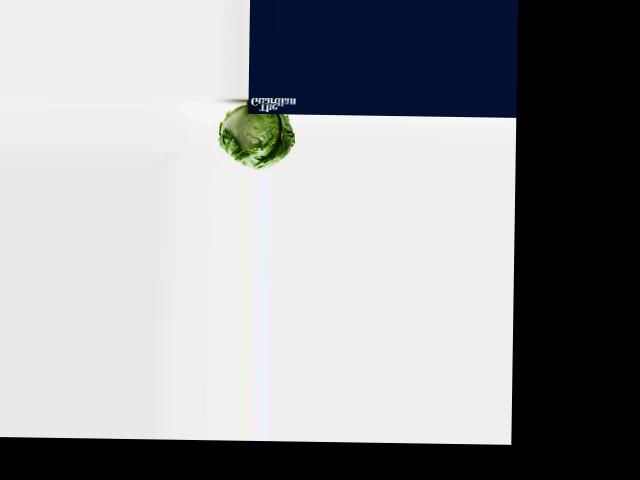lettuce: (219, 104, 293, 172)
